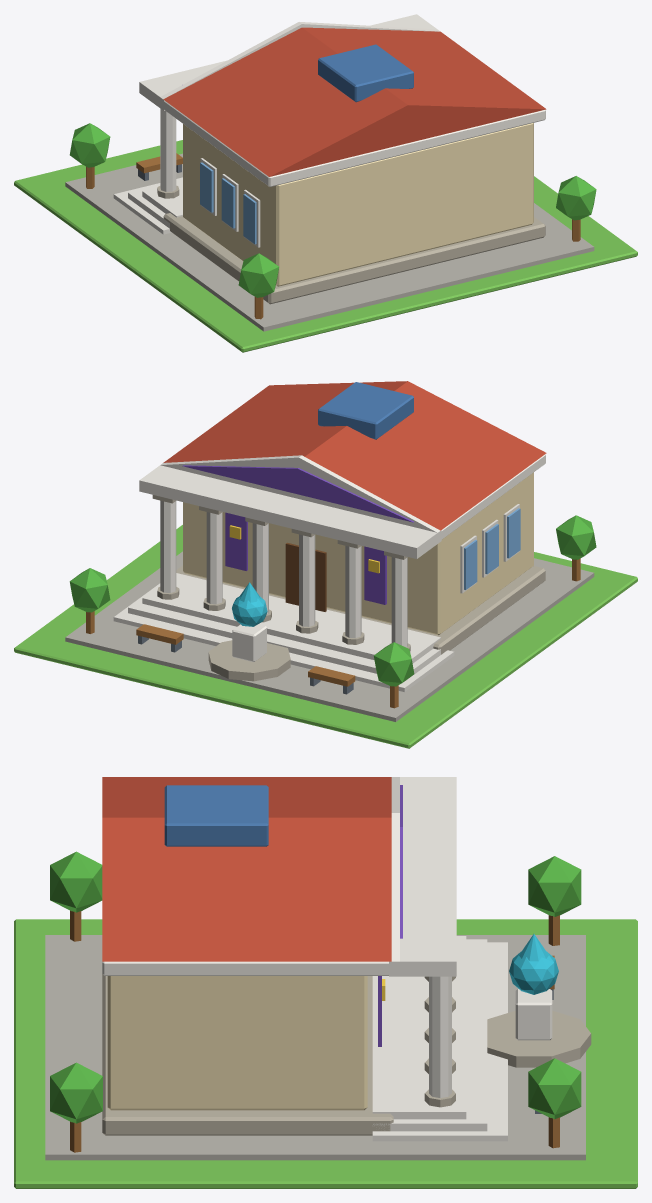
Rendered from museum.glb.
The picture shows the model from 3 angles, top to bottom: view 1: azimuth 30°, elevation 25°; view 2: azimuth 150°, elevation 25°; view 3: azimuth 270°, elevation 25°; orthographic projection. The views are drawn at different scales.
Visible parts, largest first — view 1: corpo; view 2: corpo; view 3: corpo.
Part boxes in pixels (x1,y1,x2,y2): corpo: (14,14,637,352); corpo: (14,381,637,748); corpo: (14,777,637,1188).
Size of the model in its own units: 6 by 2.69 by 6.
